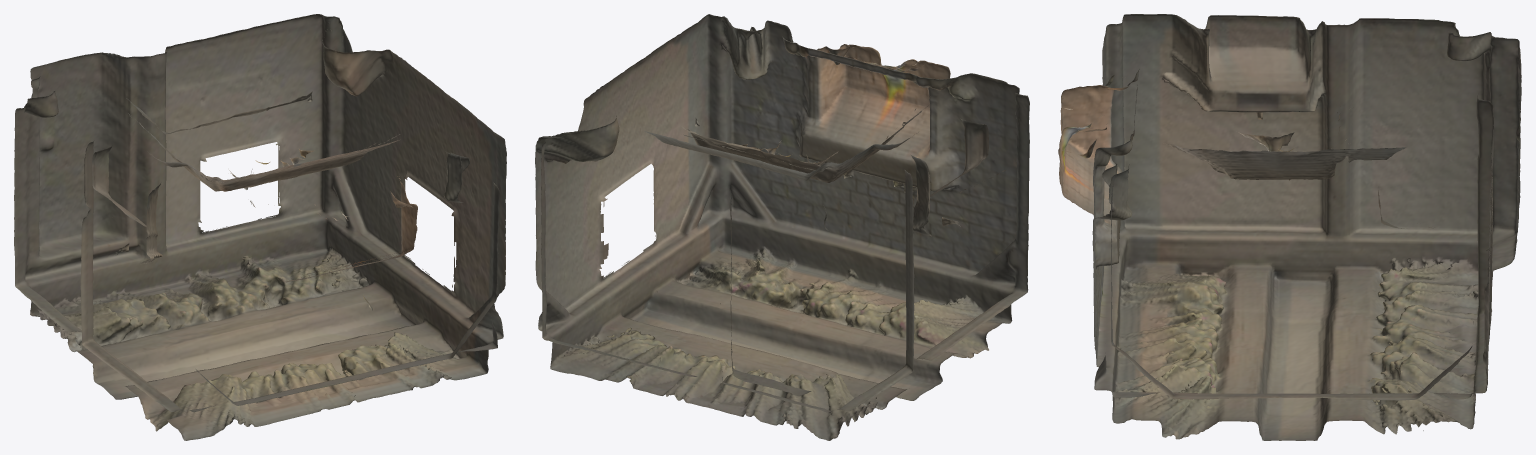
Rendered from fantasy_village_house_collider.glb.
The picture shows the model from 3 angles, left to right: view 1: azimuth 30°, elevation 25°; view 2: azimuth 150°, elevation 25°; view 3: azimuth 270°, elevation 25°; orthographic projection. The views are drawn at different scales.
Visible parts, largest first — view 1: world; view 2: world; view 3: world.
Part boxes in pixels (<box>): world: <box>14,14,506,440</box>; world: <box>535,14,1029,440</box>; world: <box>1058,14,1521,440</box>.
Bounding box in the file's own units: 3.17 × 2.24 × 3.54.
